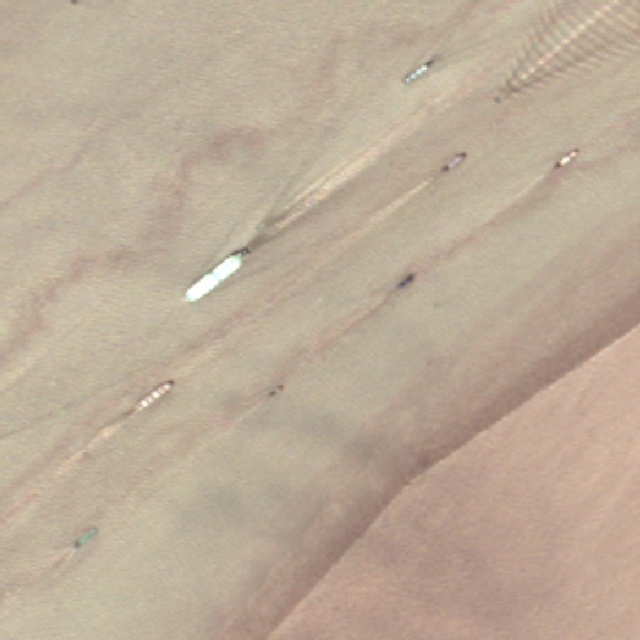wake: (468, 9, 593, 128)
